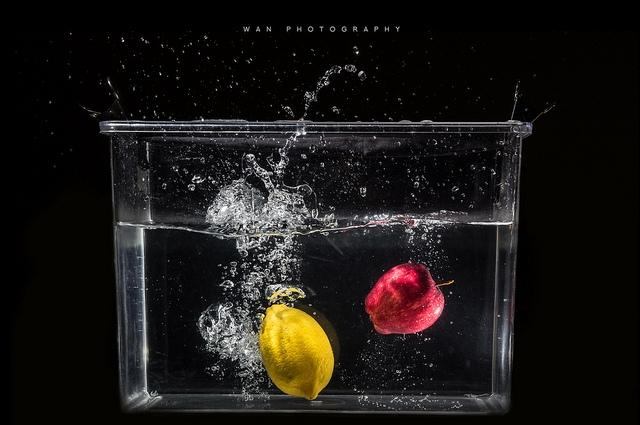apple: (364, 262, 454, 334)
lemon: (258, 304, 334, 400)
